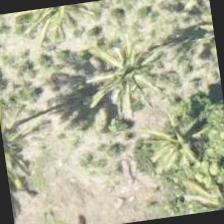Kelapa_Sawit: (50, 29, 152, 131), (127, 96, 223, 199)
